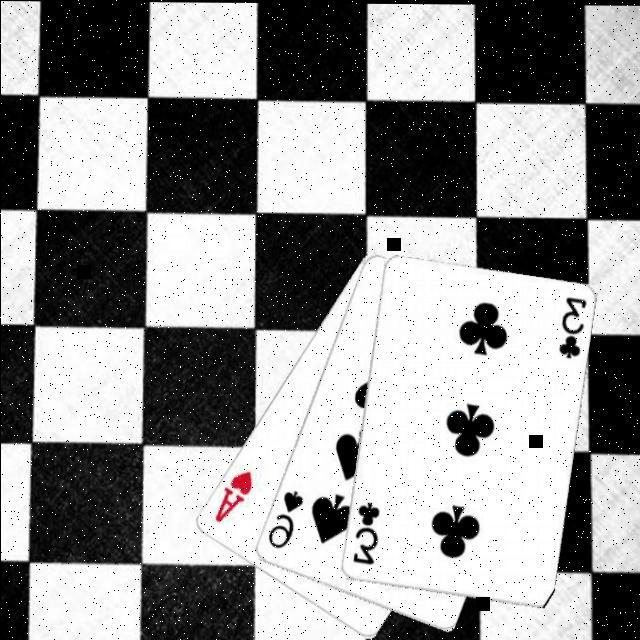3C: (349, 496, 384, 566), (556, 292, 590, 359)
9S: (265, 485, 307, 549)
AH: (212, 465, 256, 523)
